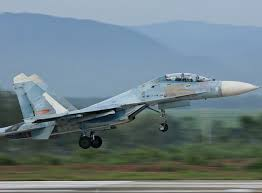maybay_muctieu: (5, 71, 262, 144)
